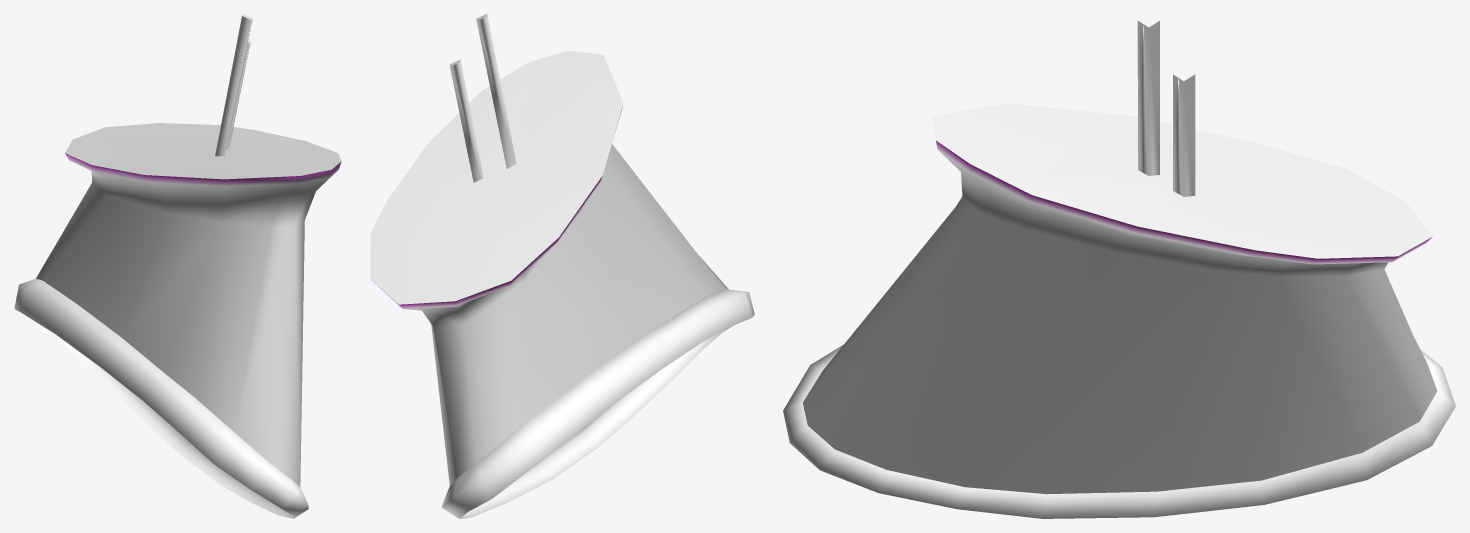
The model's file is Car_Buick_GrandNational_1987_MirrorBaseL_SetA.fbx.
3 renders of one model, left to right at view 1: azimuth 30°, elevation 25°; view 2: azimuth 150°, elevation 25°; view 3: azimuth 270°, elevation 25°, orthographic. The views are drawn at different scales.
Parts seen in each view (by area): view 1: MirrorBaseL 6; view 2: MirrorBaseL 6; view 3: MirrorBaseL 6.
Part boxes in pixels (x1,y1,x2,y2): MirrorBaseL 6: (14, 14, 341, 518); MirrorBaseL 6: (370, 14, 754, 518); MirrorBaseL 6: (783, 14, 1455, 518).
Bounding box in the file's own units: 0.0531 × 0.1015 × 0.1137.
